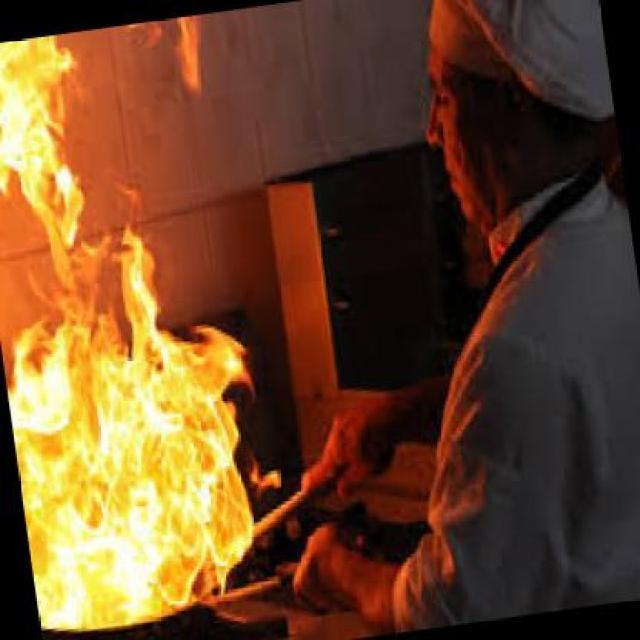Fire: (0, 38, 286, 640)
